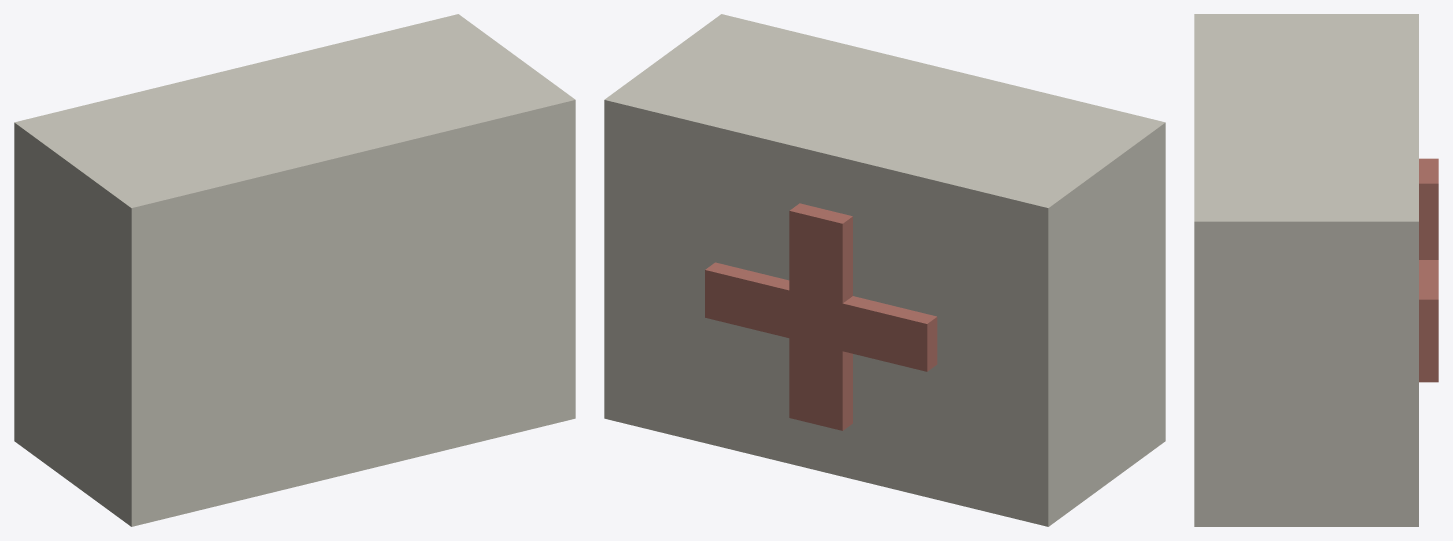
Rendered from medkit.glb.
The picture shows the model from 3 angles, left to right: view 1: azimuth 30°, elevation 25°; view 2: azimuth 150°, elevation 25°; view 3: azimuth 270°, elevation 25°; orthographic projection. The views are drawn at different scales.
Visible parts, largest first — view 1: body; view 2: body; view 3: body.
Boxes of the visible parts, x1=… form: body: x1=14, y1=14, x2=575, y2=526; body: x1=604, y1=14, x2=1165, y2=526; body: x1=1194, y1=14, x2=1438, y2=526.
Size of the model in its own units: 0.35 by 0.24 by 0.174.
